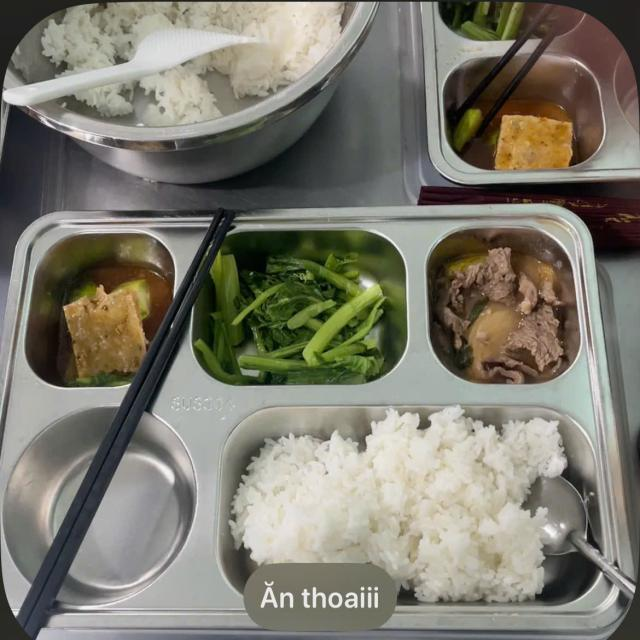canh_cai: (221, 255, 391, 375)
com_trang: (249, 423, 602, 582)
dau_hu_sot_ca: (56, 262, 150, 377), (468, 99, 595, 169)
thit_kho: (437, 256, 568, 368)
